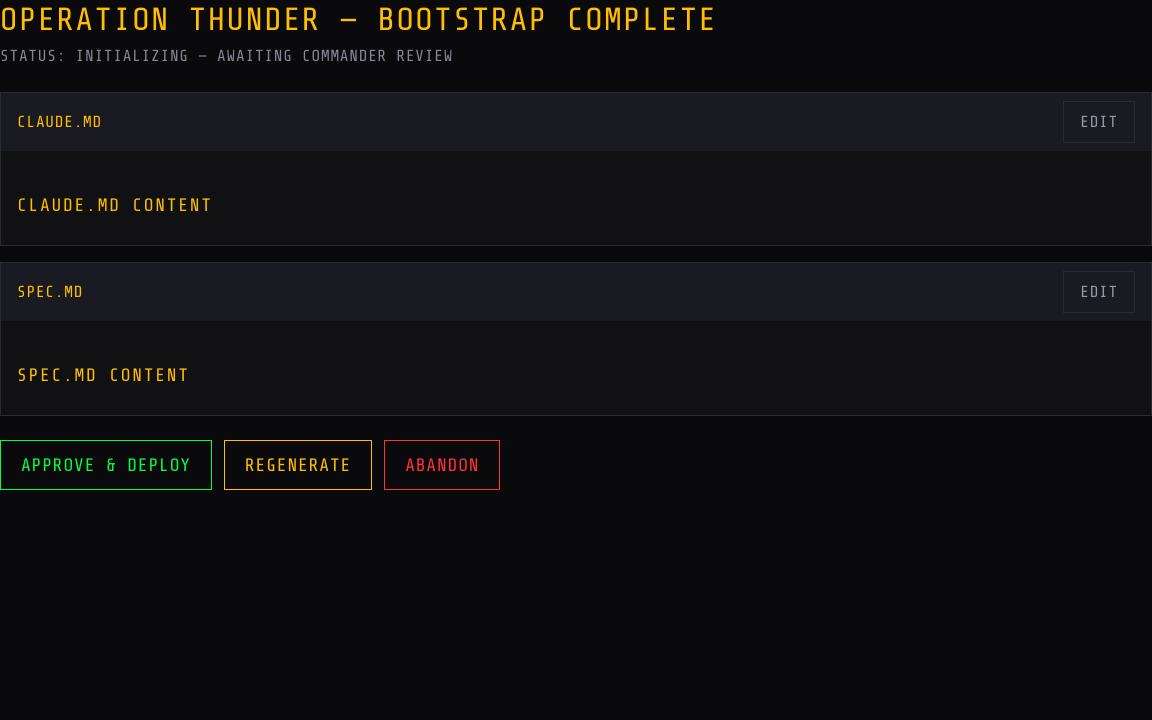
BootstrapReview › cancels edit mode without saving
The width and height of the screenshot is (1152, 720).
Enter edit mode
Click the 1st button "EDIT" at (1099, 122), box [1063,101,1135,143]
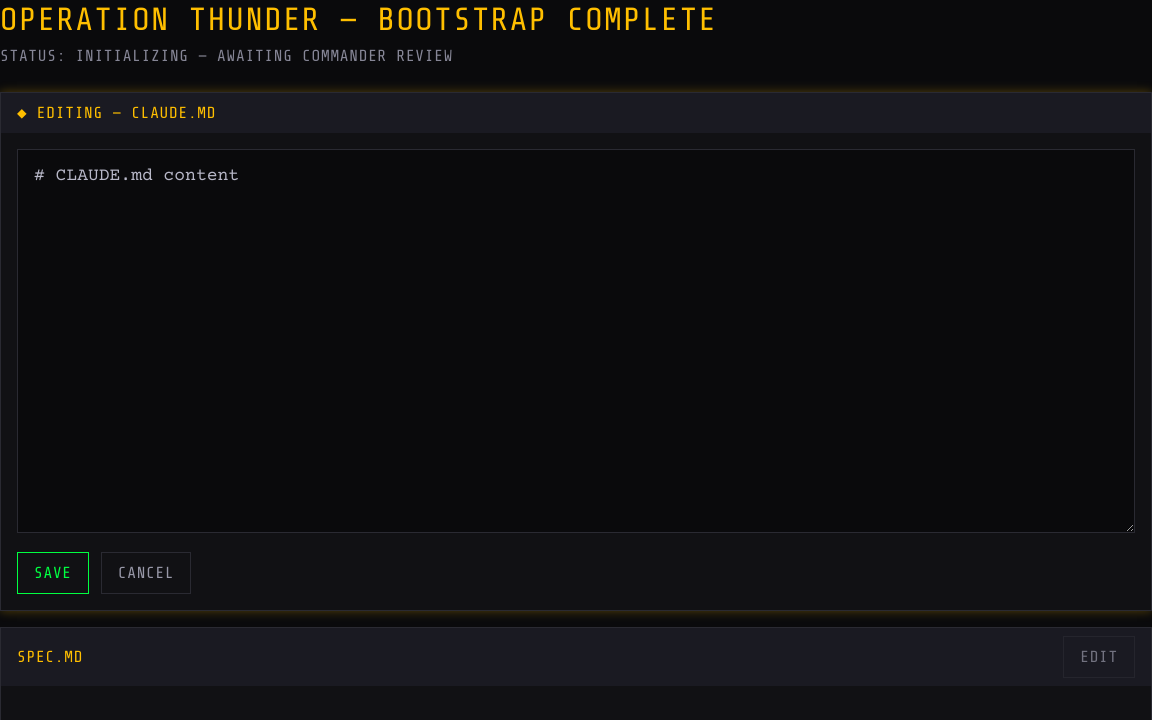
Check: the text "◆ EDITING — CLAUDE.md" is shown, box [17,101,216,125]
Click the button "CANCEL" at (146, 573), box [101,552,191,594]
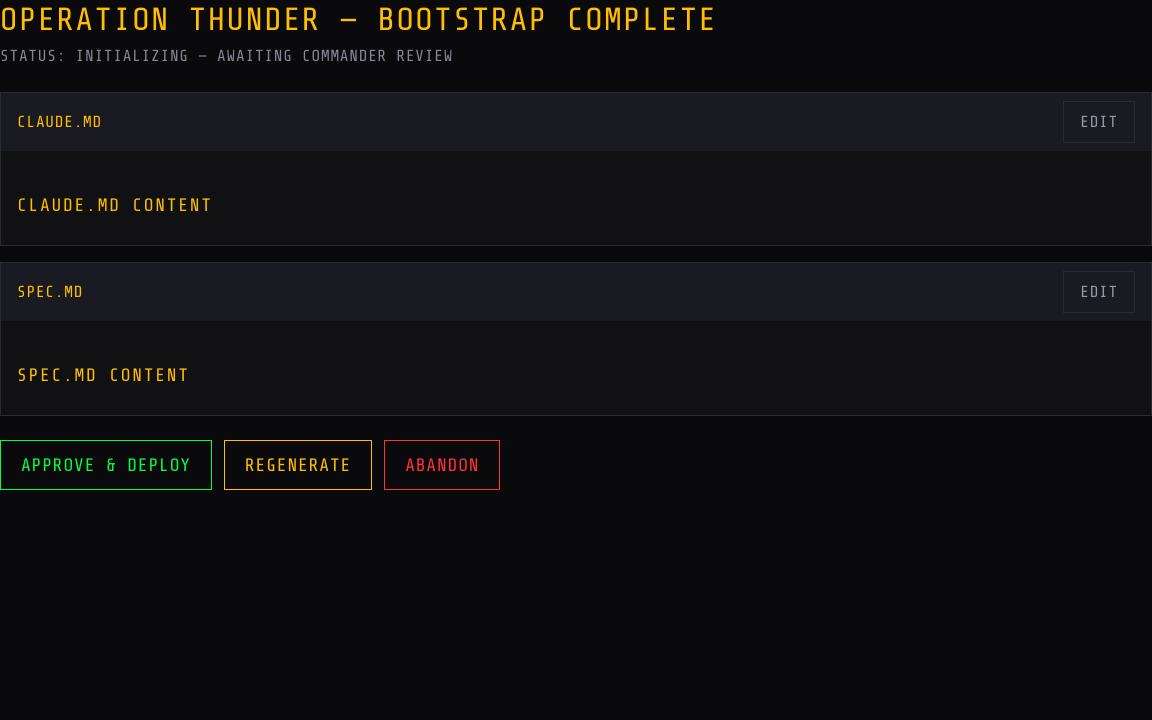
Check: the text "◆ EDITING — CLAUDE.md" is gone
